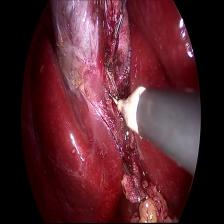Hook: (105, 80, 153, 142)
